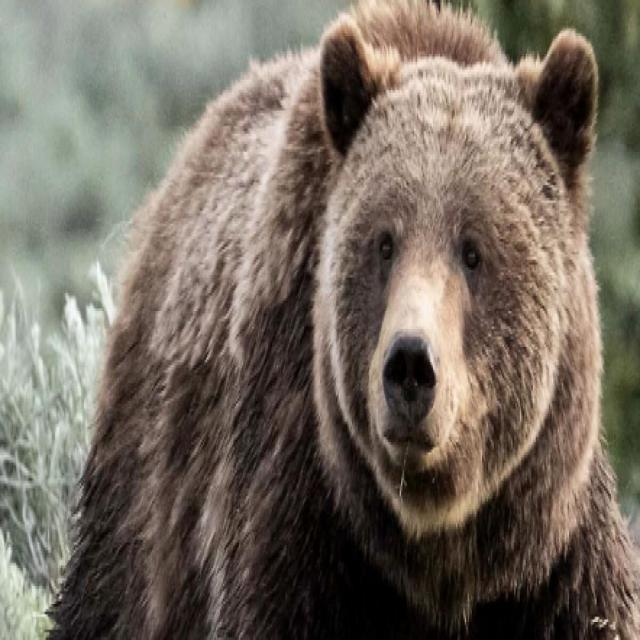Bear: (42, 0, 640, 640)
